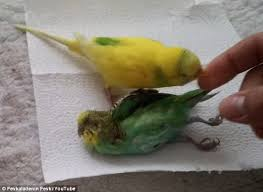budgie: (57, 33, 204, 98), (71, 91, 227, 151)
